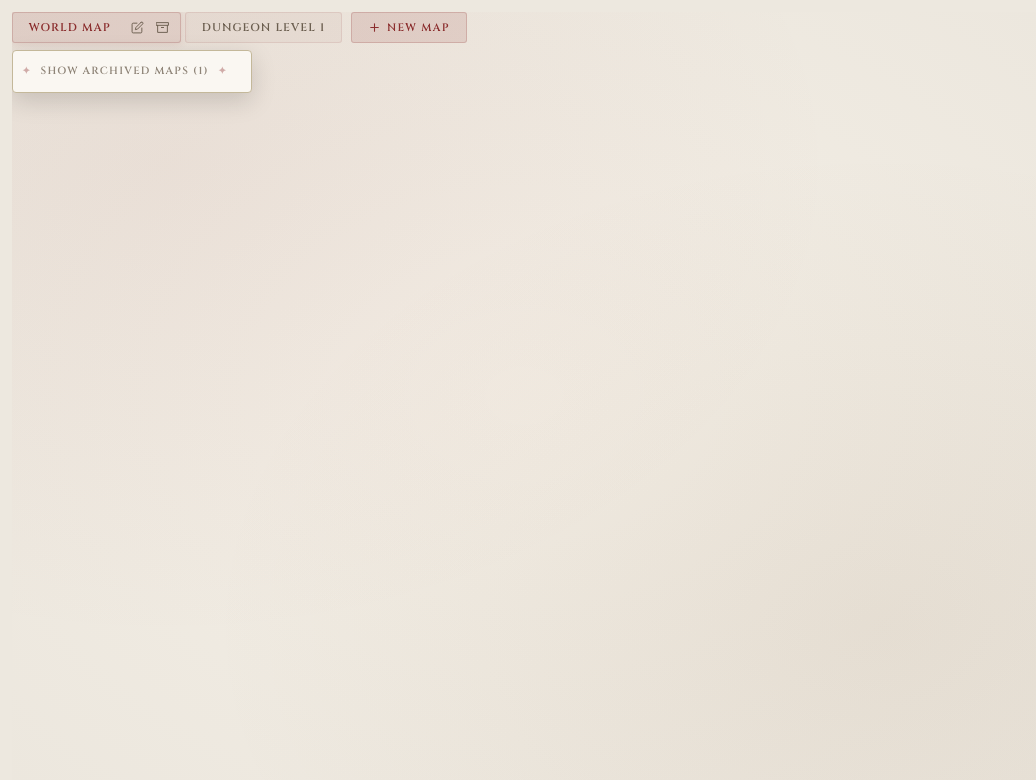
Test: MapSelector › should reveal archived maps when toggle is clicked
Click the button "✦ Show Archived Maps (1) ✦": (125, 71) x1=22 y1=60 x2=228 y2=83
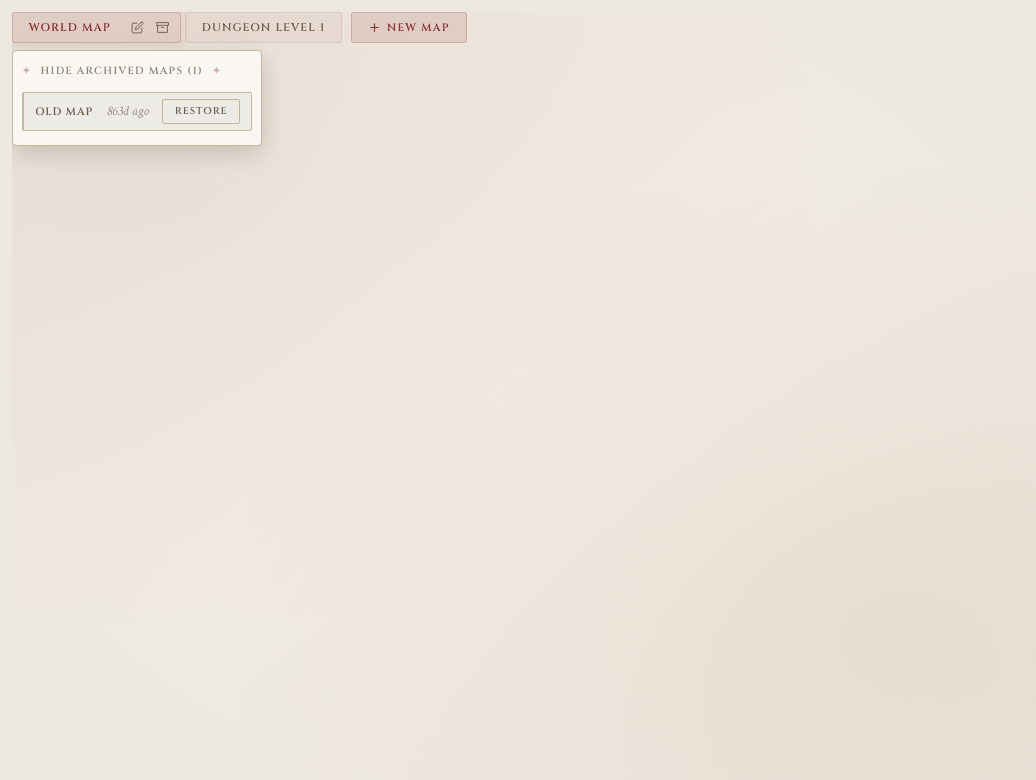
Result: the text "Old Map" is shown at x1=35 y1=103 x2=93 y2=120
Result: the button "Restore" is shown at x1=162 y1=99 x2=240 y2=124
